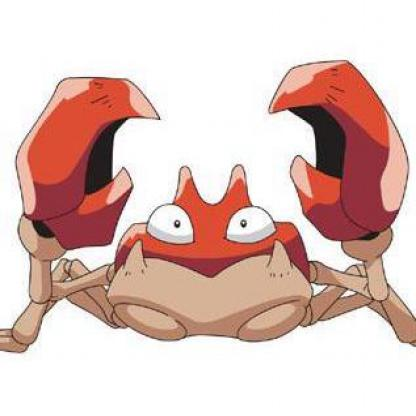Krabby: (1, 53, 416, 368)
